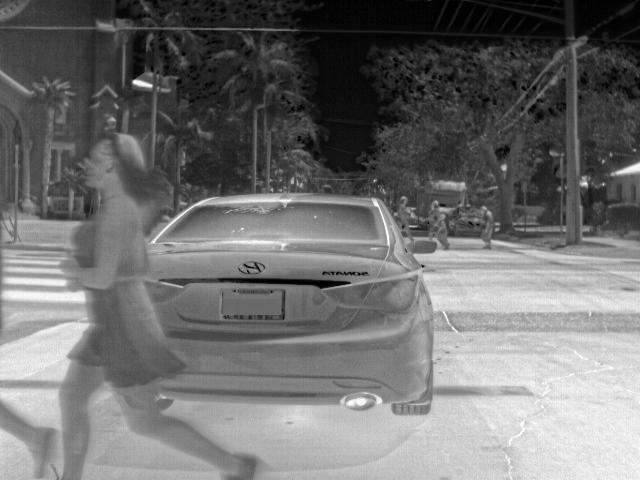car: (144, 191, 438, 418), (449, 204, 479, 237)
person: (54, 130, 263, 478), (425, 197, 454, 247), (393, 193, 414, 244), (479, 204, 498, 250)
